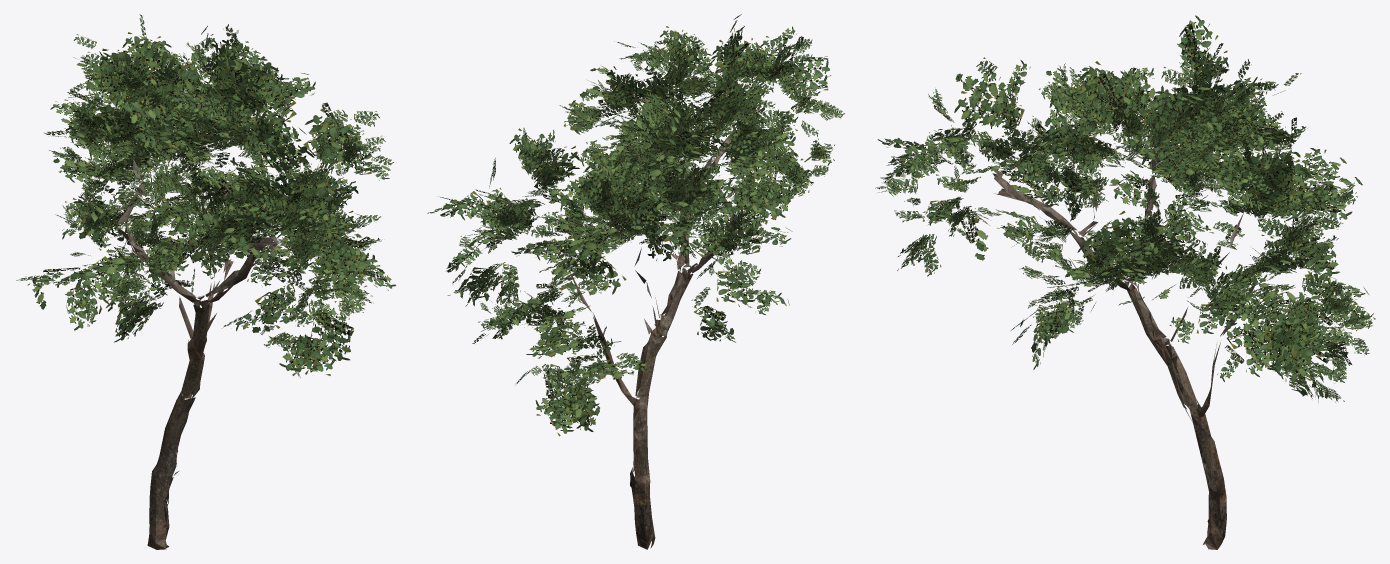
The model's file is arvore.glb.
3 renders of one model, left to right at view 1: azimuth 30°, elevation 25°; view 2: azimuth 150°, elevation 25°; view 3: azimuth 270°, elevation 25°, orthographic. The views are drawn at different scales.
Visible parts, largest first — view 1: Arvore_Real_LowLOD_tree_small_02; view 2: Arvore_Real_LowLOD_tree_small_02; view 3: Arvore_Real_LowLOD_tree_small_02.
Part boxes in pixels (box(x1,y1,x2,y2)): Arvore_Real_LowLOD_tree_small_02: box(16, 14, 396, 549); Arvore_Real_LowLOD_tree_small_02: box(427, 14, 844, 549); Arvore_Real_LowLOD_tree_small_02: box(875, 15, 1375, 549).
Size of the model in its own units: 3 by 4.65 by 4.31.
3 materials, 3 textured.
